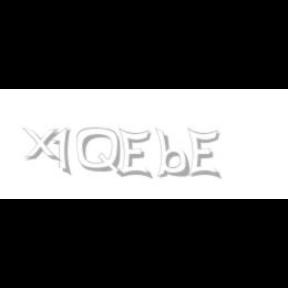1: (50, 128, 72, 176)
E: (118, 128, 152, 180), (188, 128, 220, 180)
Q: (77, 128, 123, 178)
b: (155, 128, 193, 178)
x: (22, 128, 64, 162)
